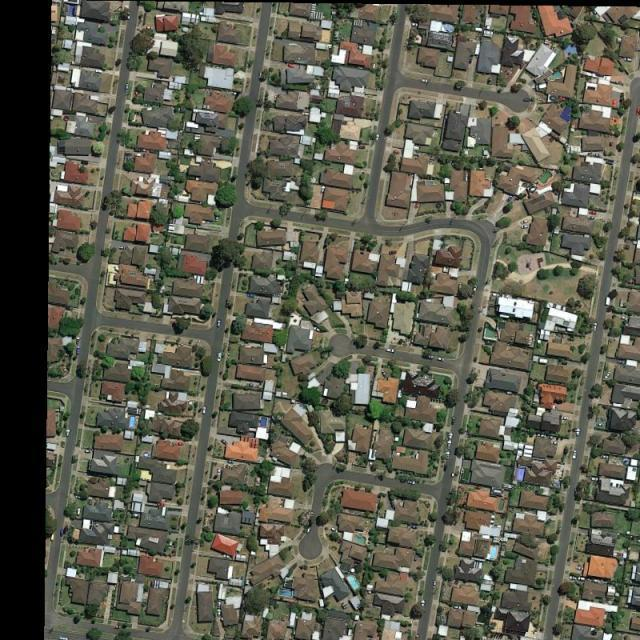vehicle: (407, 479, 416, 486), (246, 382, 258, 387), (604, 371, 610, 381), (286, 62, 294, 69), (436, 357, 446, 362), (550, 441, 560, 446), (572, 449, 577, 459), (425, 354, 433, 360), (520, 218, 528, 224), (126, 11, 131, 20), (124, 84, 129, 93), (258, 69, 263, 78), (388, 250, 397, 255), (374, 133, 379, 142), (520, 225, 529, 230), (217, 351, 221, 362), (331, 527, 338, 533), (448, 432, 454, 439), (591, 476, 598, 482), (118, 245, 126, 250), (83, 449, 91, 454), (59, 529, 64, 537), (247, 293, 255, 298), (386, 348, 394, 353), (453, 605, 461, 610), (447, 440, 451, 450), (382, 370, 387, 378), (473, 285, 478, 293), (594, 322, 598, 332), (575, 566, 585, 570), (217, 466, 221, 475), (226, 298, 230, 307), (432, 580, 436, 589), (446, 450, 450, 459), (451, 417, 455, 426), (636, 106, 640, 115), (306, 526, 311, 533), (450, 472, 455, 479), (491, 292, 498, 297), (134, 90, 138, 98), (217, 319, 221, 327), (76, 337, 80, 345), (202, 406, 206, 414), (410, 524, 418, 528), (421, 598, 425, 606), (444, 463, 448, 471), (589, 210, 597, 214), (538, 434, 546, 438), (578, 577, 586, 581), (569, 576, 577, 580), (222, 439, 227, 445), (562, 416, 568, 421), (66, 429, 70, 436), (393, 150, 400, 154), (411, 22, 418, 26), (588, 216, 595, 220), (600, 454, 607, 458), (576, 429, 580, 436), (76, 346, 79, 354), (218, 609, 221, 617), (422, 79, 428, 83), (431, 541, 434, 548)
